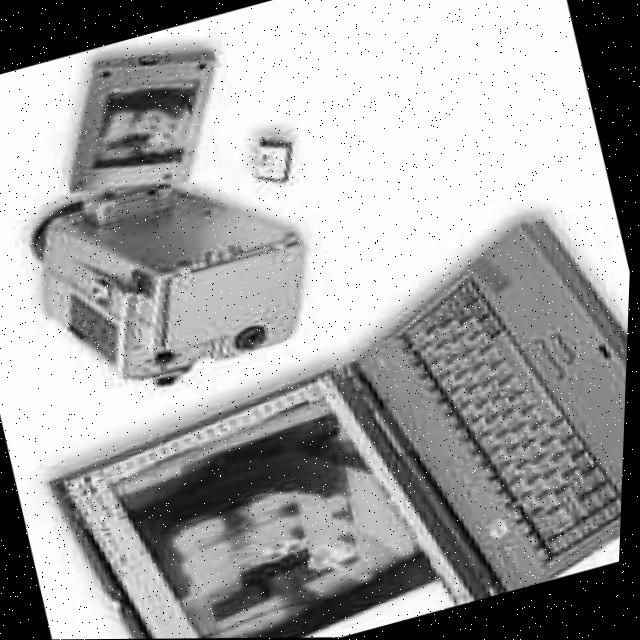laptop: (16, 232, 633, 640)
